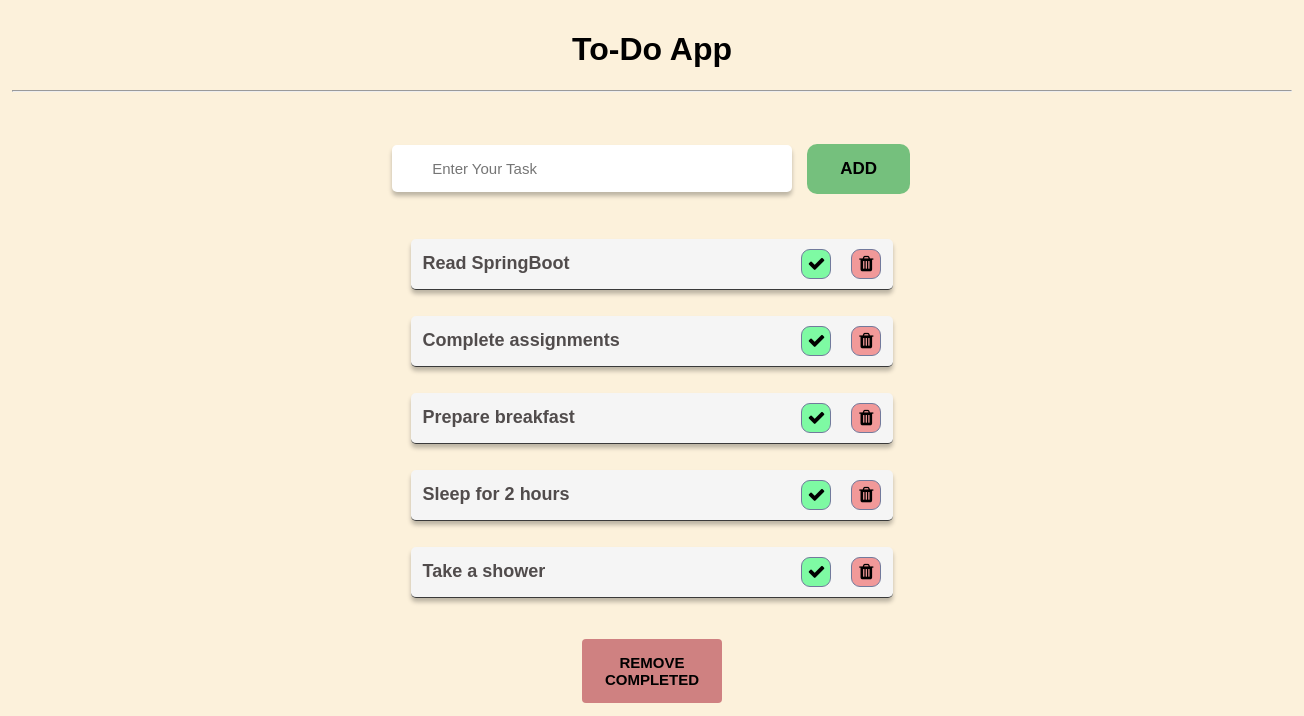
Test: Testing add task functionality › should add task to the todolist
Type "Read React" into the field with placeholder "Enter Your Task" at [592, 168], box [392,145,792,192]
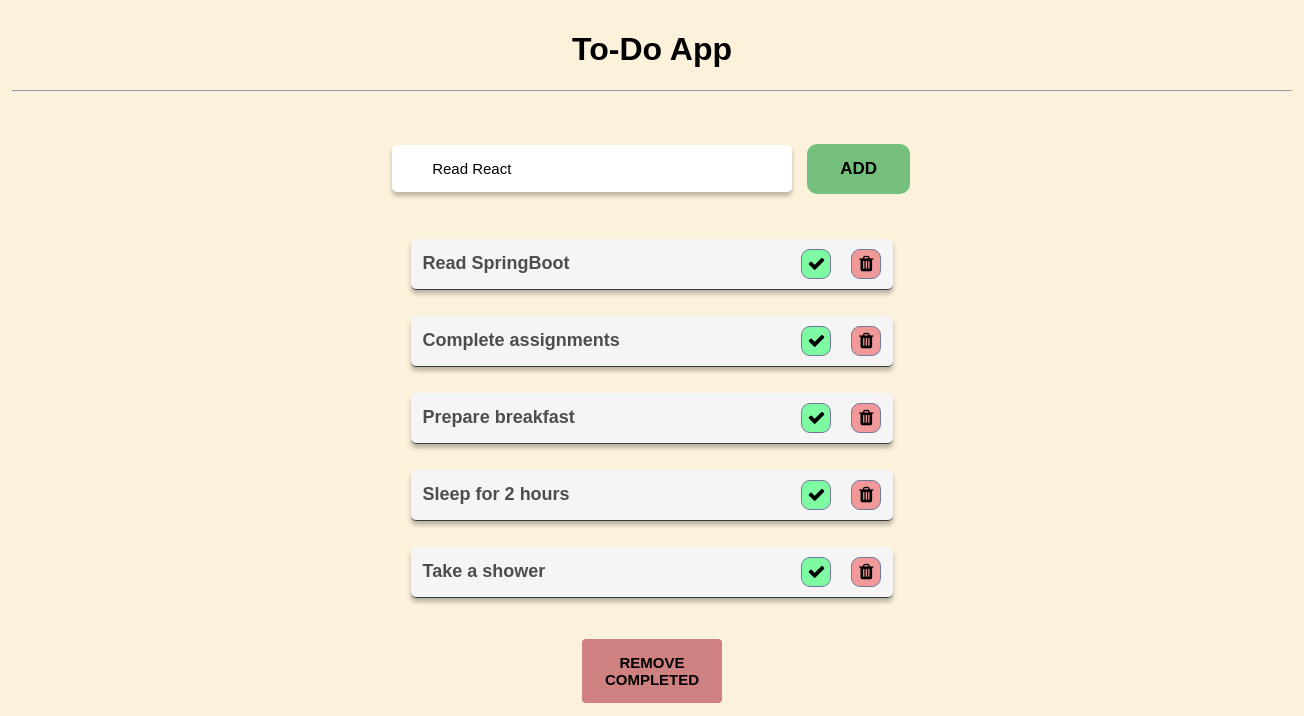
Click the button with test id "addtask-button" at [859, 169], box [808,144,910,194]
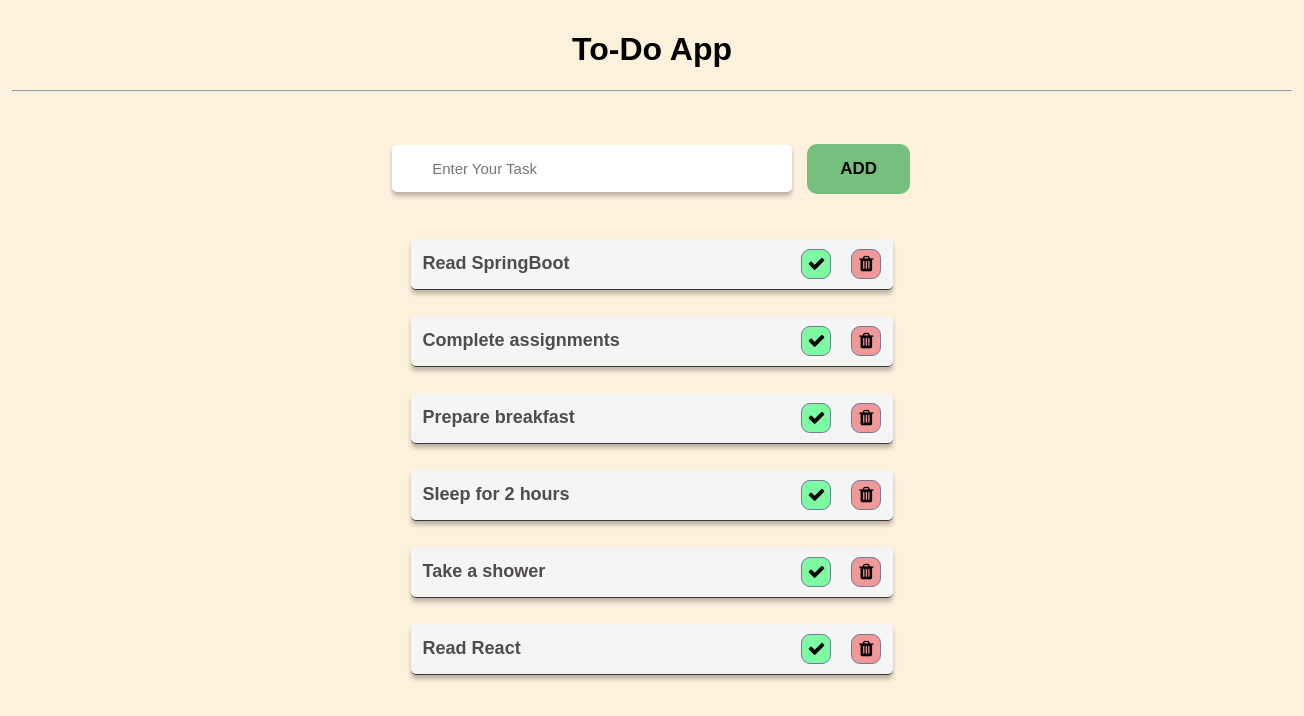
Now the number of list items with test id "todolist" is 6, box [411,239,893,290]; [411,316,893,367]; [411,393,893,444]; [411,470,893,521]; [411,547,893,598]; [411,624,893,675]
